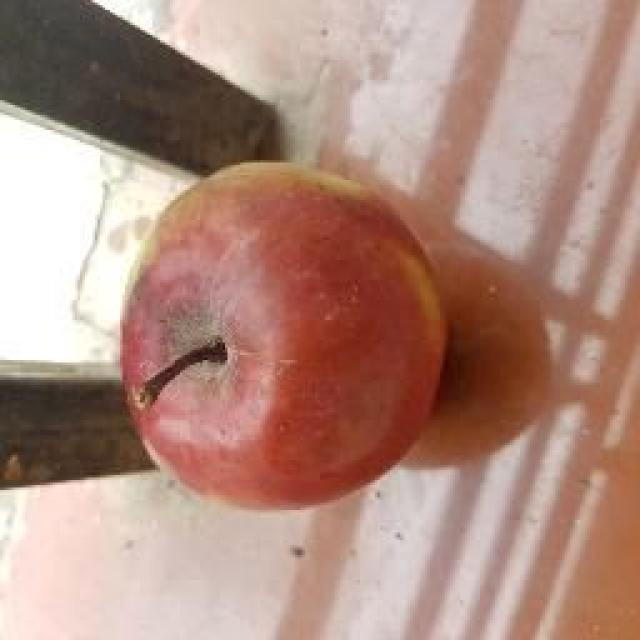Good_Apple: (122, 164, 445, 506)
